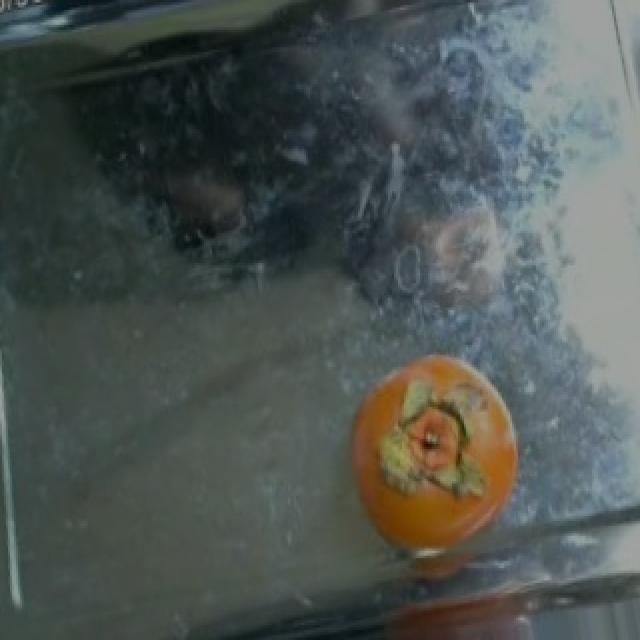Fruit: (332, 338, 536, 576)
